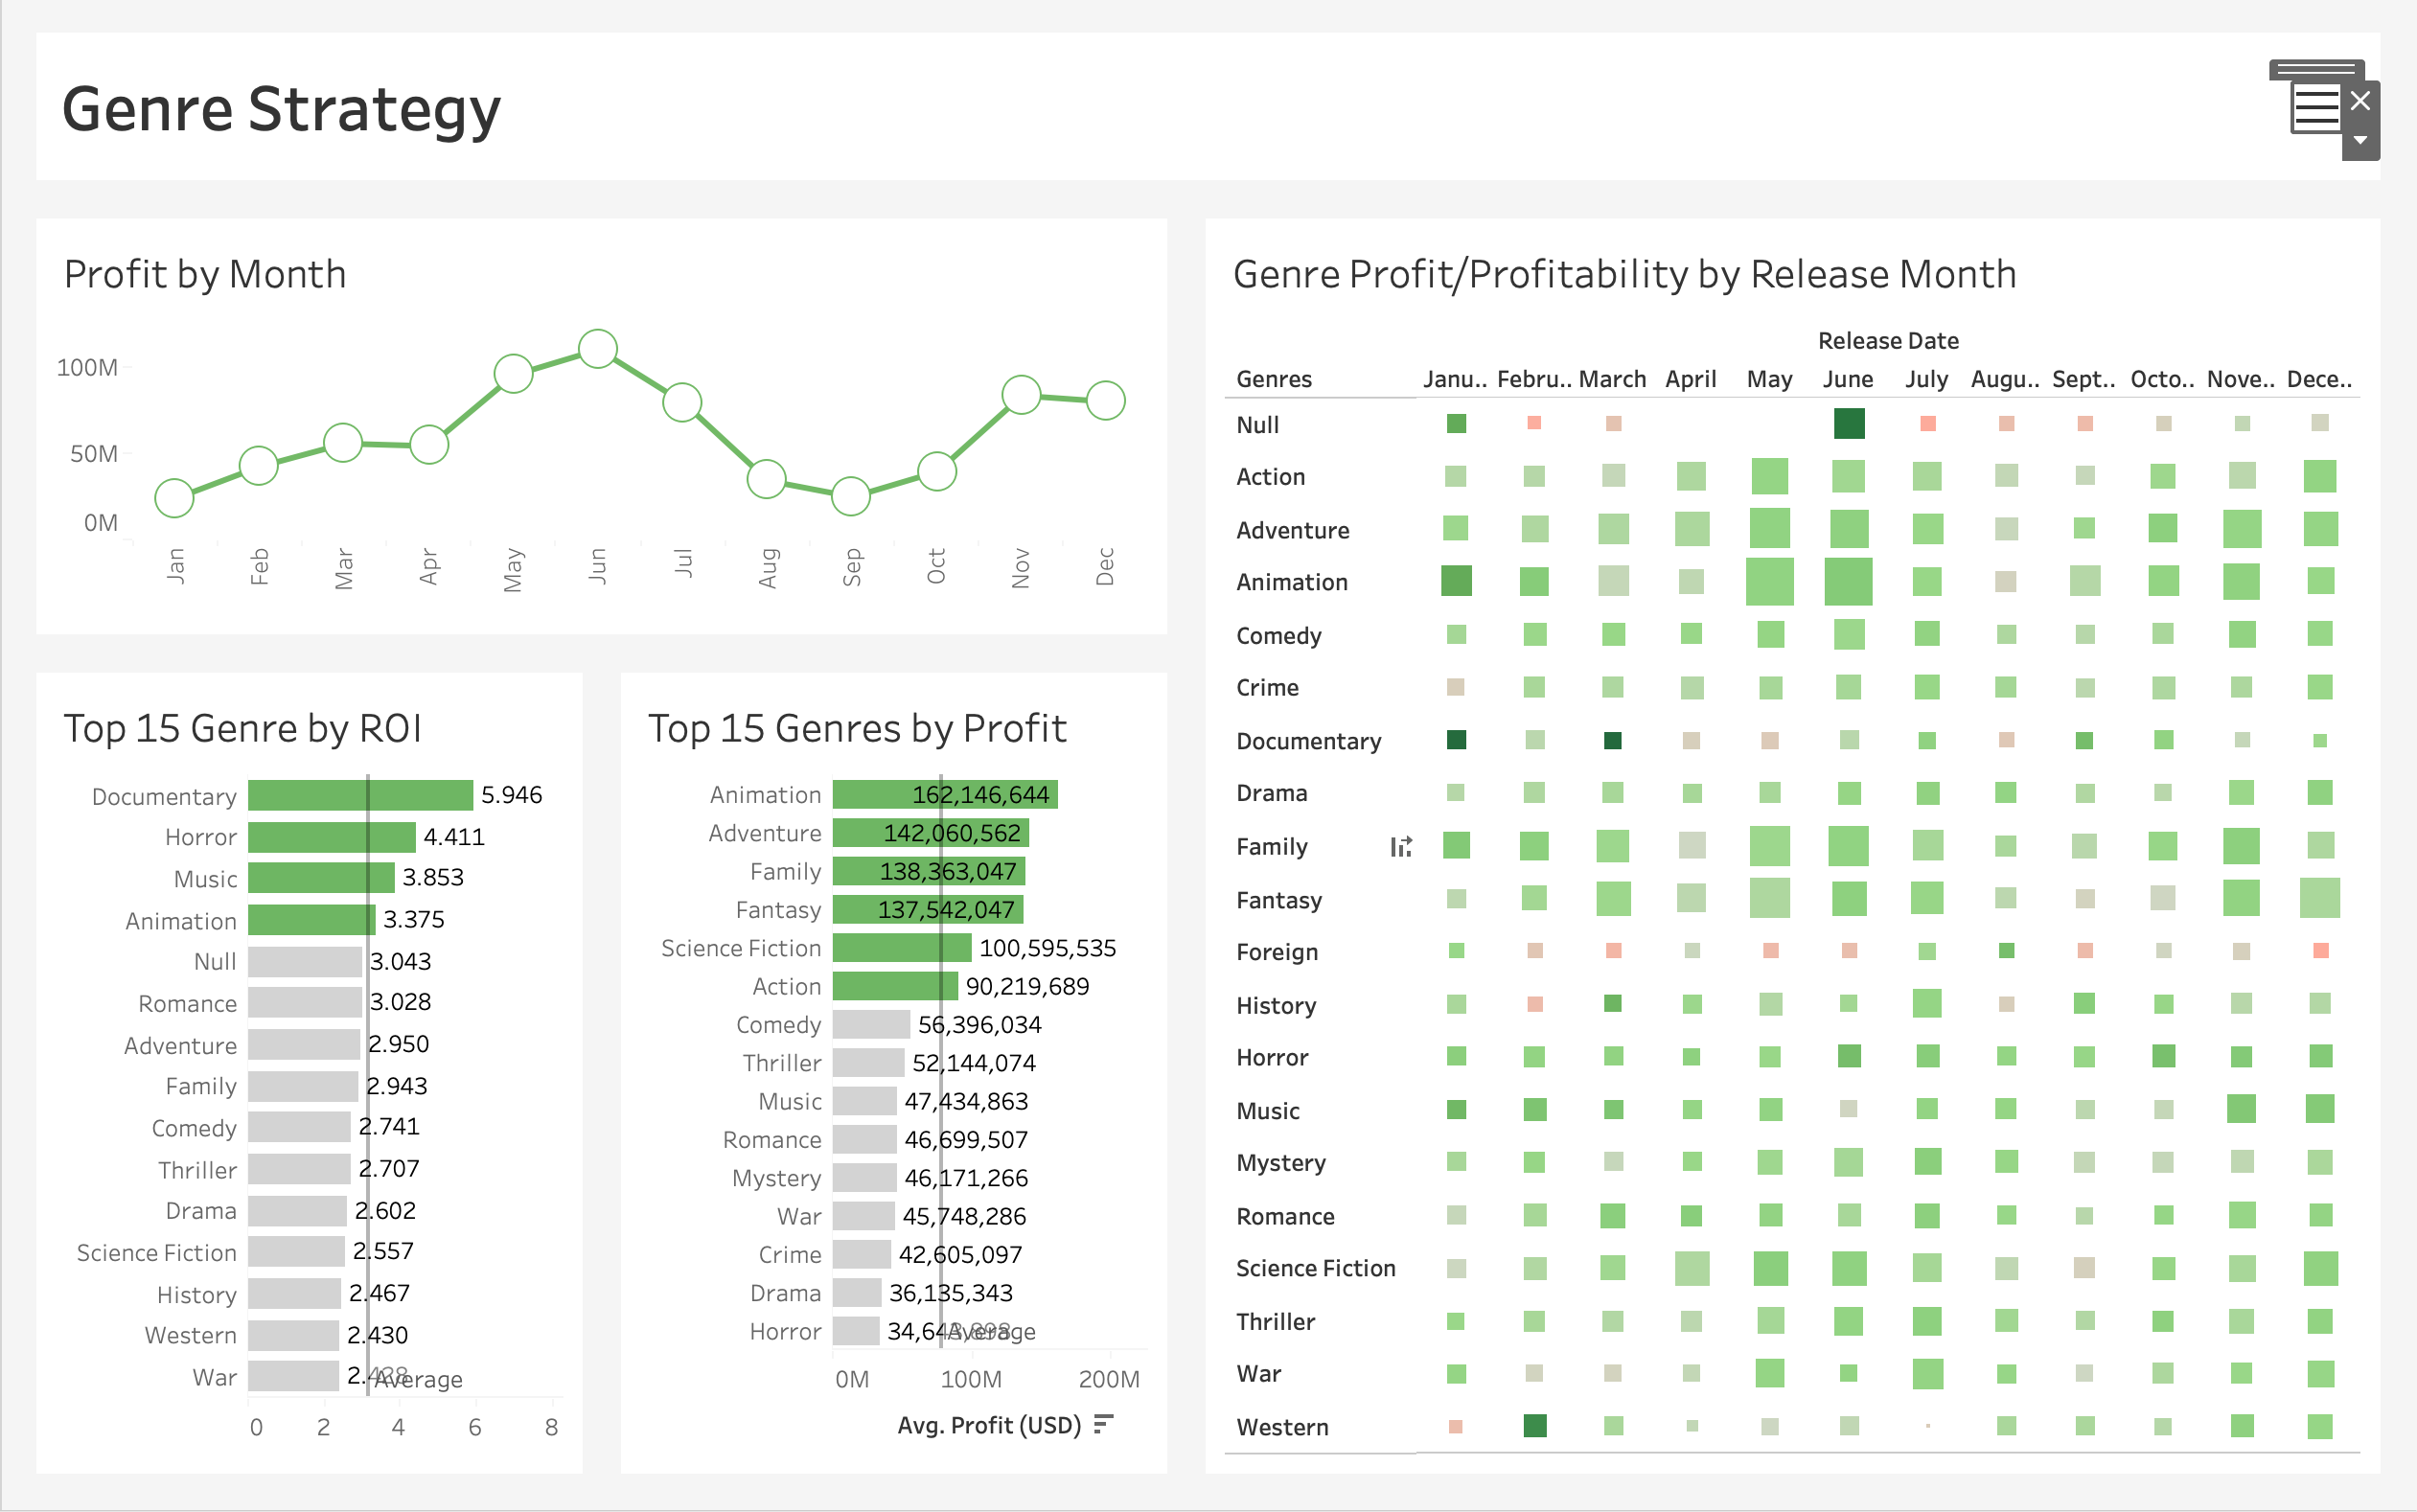

Layout of this report page (visuals, bound fields, positions):
{"tool":"tableau","page":{"name":"2 - Genre Strategy Dashboard","canvas":[1000,1000],"units":"permille","ordinal":1},"visuals":[{"type":"text","box":[6.4,10.2,987.3,123.1]},{"type":"dashboard-object","box":[950,57.1,19.1,30.5]},{"type":"dashboard-object","box":[801.4,57.6,130.6,115.3]},{"type":"worksheet","title":"Profit by Month","mark":"Automatic","rows":["profit","profit"],"cols":["release_date"],"box":[6.4,133.2,484.4,300.8]},{"type":"worksheet","title":"Genre Profit/Profitability by Release Month","mark":"Automatic","rows":["genres"],"cols":["release_date"],"box":[490.8,133.2,502.8,856.5]},{"type":"dashboard-object","box":[801.4,172.9,130.6,114.1]},{"type":"worksheet","title":"Top 15 Genre by ROI","mark":"Automatic","rows":["genres"],"cols":["Calculation_4591560568289505280"],"box":[6.4,434,242.2,555.8]},{"type":"worksheet","title":"Top 15 Genres by Profit","mark":"Automatic","rows":["genres"],"cols":["profit"],"box":[248.6,434,242.2,555.8]}]}

Visuals, with their boxes on the dashboard's canvas, which has no fixed pixel size, in thousandths of its width and height (x1, y1, x2, y2). These are canvas units, not pixel positions in the 2417x1512 screenshot, which may show the page scaled, cropped or inside an application window:
text: [6, 10, 994, 133]
dashboard-object: [950, 57, 969, 88]
dashboard-object: [801, 58, 932, 173]
"Profit by Month" worksheet: [6, 133, 491, 434]
"Genre Profit/Profitability by Release Month" worksheet: [491, 133, 994, 990]
dashboard-object: [801, 173, 932, 287]
"Top 15 Genre by ROI" worksheet: [6, 434, 249, 990]
"Top 15 Genres by Profit" worksheet: [249, 434, 491, 990]
